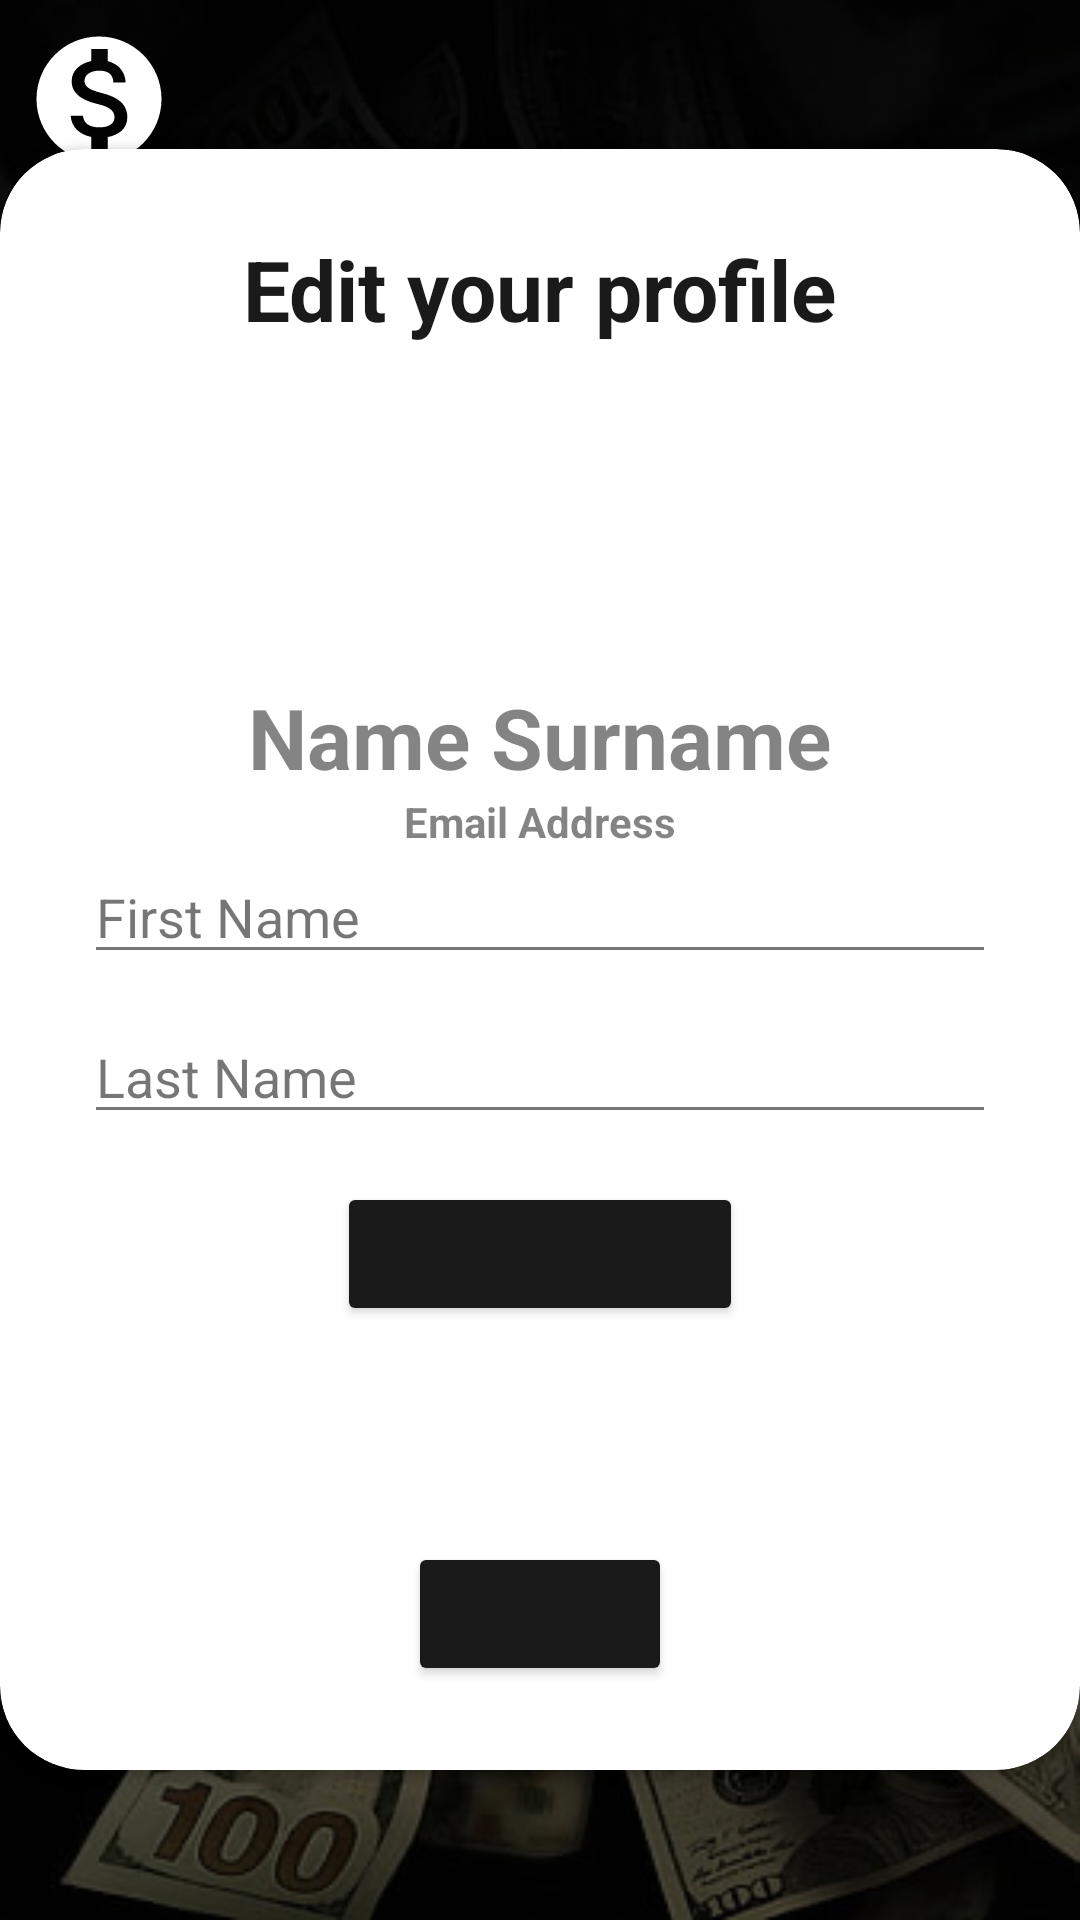

Where to tap for icons on this 1080*1920 app screen, as [x,y]:
monetization on: [99,105]
